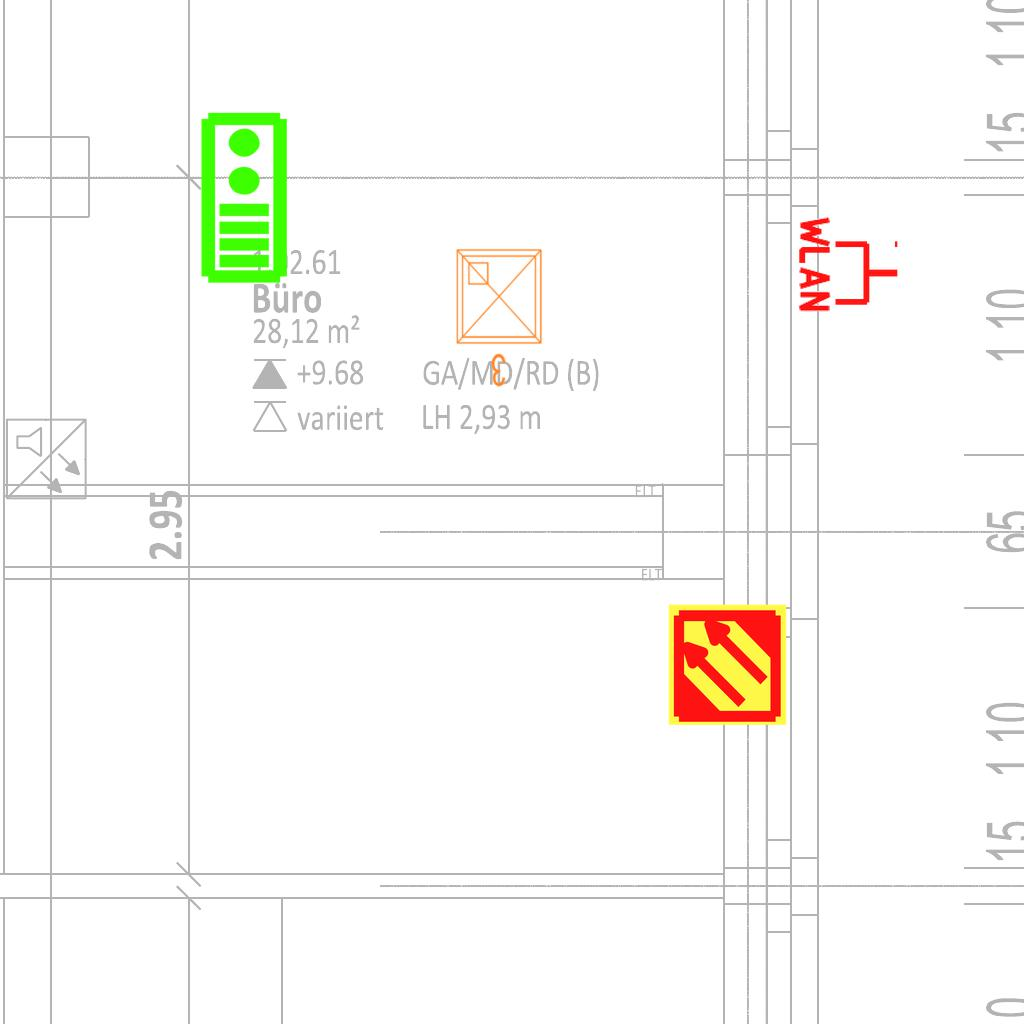ASR_Ansaugrauchmelder: (665, 602, 790, 727)
Einbaudownlights_LED_Konferenzraeume: (449, 242, 553, 392)
Gegensprechanlage_mit_Video: (195, 109, 290, 285)
WLAN: (797, 212, 902, 316)
